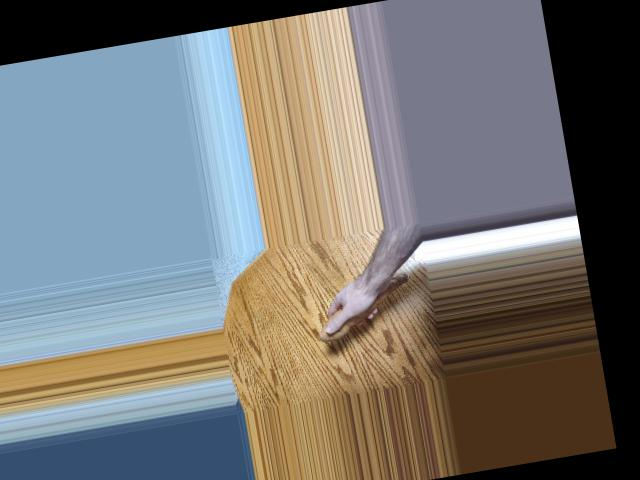sweet_potato: (309, 267, 432, 344)
